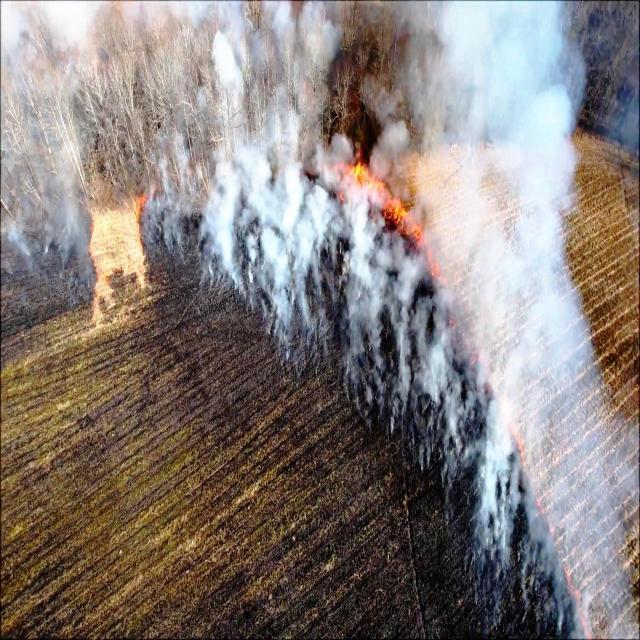Fire: (344, 151, 388, 208)
Smoke: (505, 272, 640, 640), (418, 9, 588, 264), (336, 183, 416, 430), (208, 23, 254, 320), (428, 314, 470, 498)
